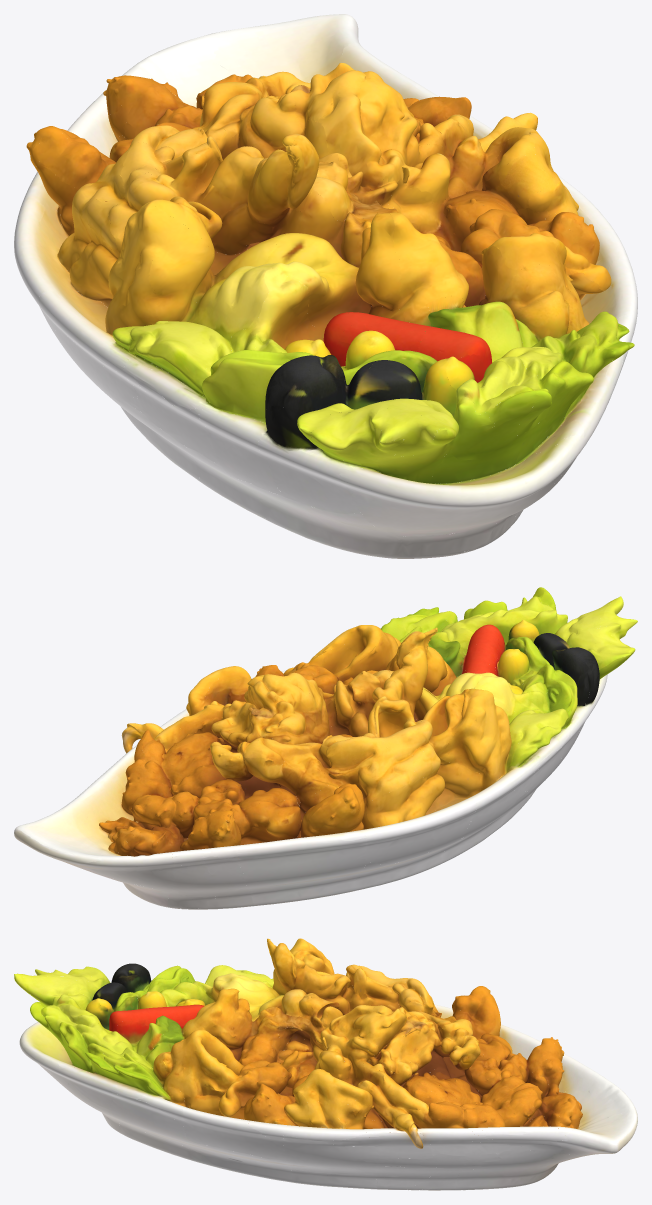
The model's file is box milonge.glb.
3 views of the same model, one above another, from view 1: azimuth 30°, elevation 25°; view 2: azimuth 150°, elevation 25°; view 3: azimuth 270°, elevation 25° (orthographic). The views are drawn at different scales.
Visible parts, largest first — view 1: tripo_node_f0f8ceca-fe9b-4406-8ba2-f6cb9edc88d5; view 2: tripo_node_f0f8ceca-fe9b-4406-8ba2-f6cb9edc88d5; view 3: tripo_node_f0f8ceca-fe9b-4406-8ba2-f6cb9edc88d5.
Boxes of the visible parts, box(x1,y1,x2,y2) form: tripo_node_f0f8ceca-fe9b-4406-8ba2-f6cb9edc88d5: box(14, 14, 637, 558); tripo_node_f0f8ceca-fe9b-4406-8ba2-f6cb9edc88d5: box(14, 587, 637, 909); tripo_node_f0f8ceca-fe9b-4406-8ba2-f6cb9edc88d5: box(14, 938, 637, 1190).
Bounding box in the file's own units: 0.5604 × 0.3014 × 0.981.
1 material, 1 textured.
